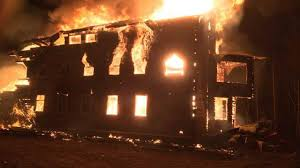fire: (23, 7, 263, 139)
